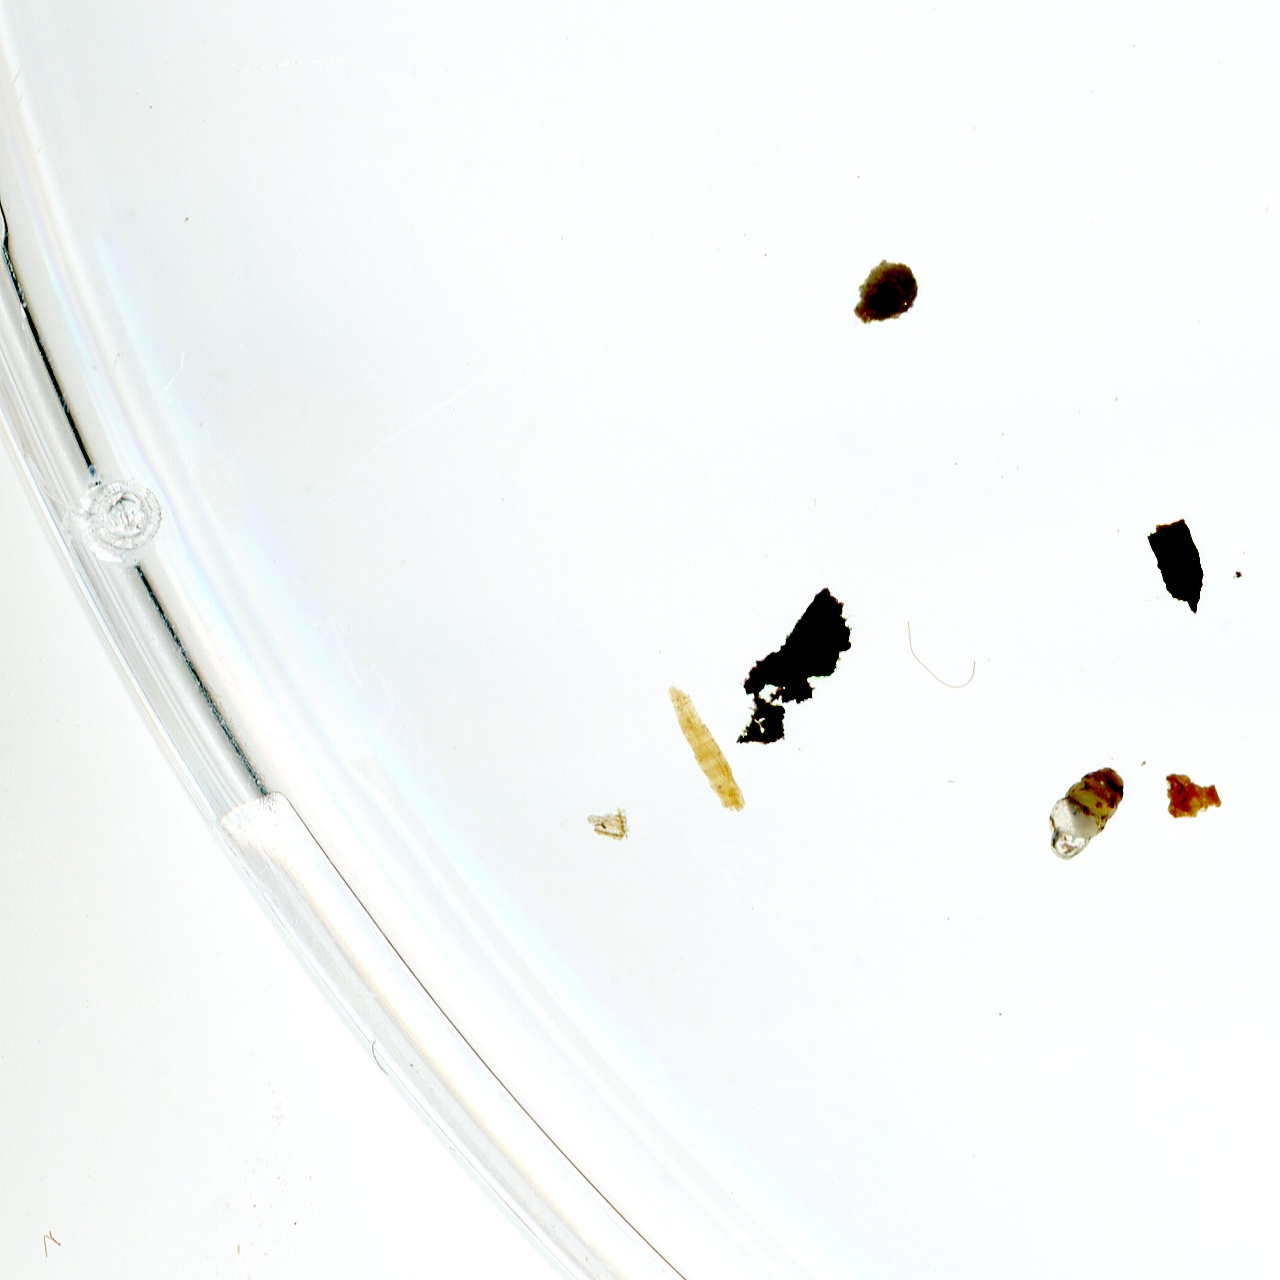arthropod: (1042, 761, 1128, 869)
